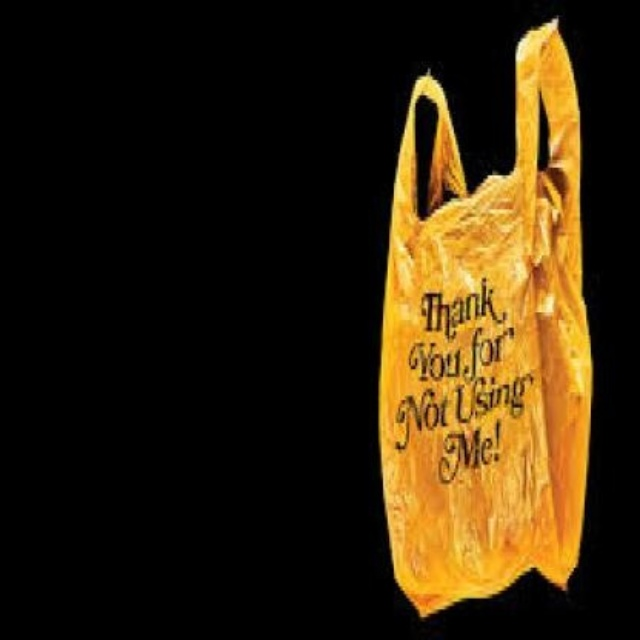trash: (380, 20, 591, 614)
